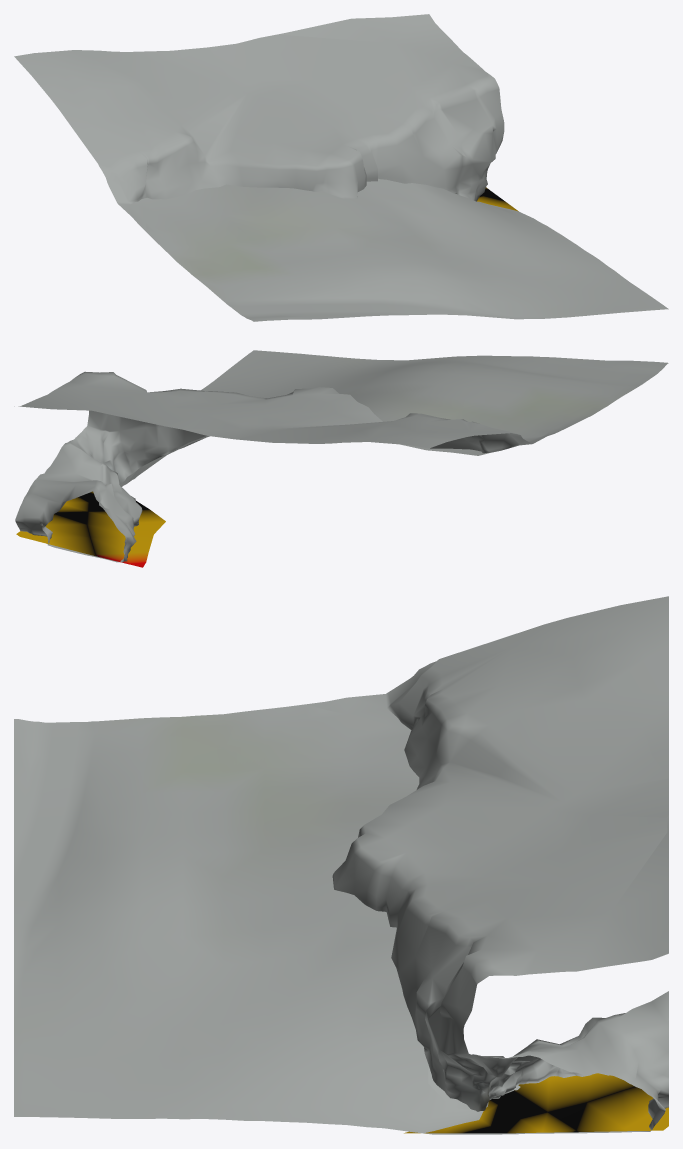
3 renders of one model, top to bottom at view 1: azimuth 30°, elevation 25°; view 2: azimuth 150°, elevation 25°; view 3: azimuth 270°, elevation 25°, orthographic. The views are drawn at different scales.
Visible parts, largest first — view 1: G:\FFXIV-MapTools\exports\s1f2\bg\ffxiv\sea_s1\fld\s1f2\bgpl (×14); view 2: G:\FFXIV-MapTools\exports\s1f2\bg\ffxiv\sea_s1\fld\s1f2\bgpl (×15); view 3: G:\FFXIV-MapTools\exports\s1f2\bg\ffxiv\sea_s1\fld\s1f2\bgpl (×18).
Part boxes in pixels (x1,y1,x2,y2): G:\FFXIV-MapTools\exports\s1f2\bg\ffxiv\sea_s1\fld\s1f2\bgpl (×14): (14,14,668,321); G:\FFXIV-MapTools\exports\s1f2\bg\ffxiv\sea_s1\fld\s1f2\bgpl (×15): (14,350,668,567); G:\FFXIV-MapTools\exports\s1f2\bg\ffxiv\sea_s1\fld\s1f2\bgpl (×18): (14,596,668,1134).
Bounding box in the file's own units: 128 × 56.47 × 128.
